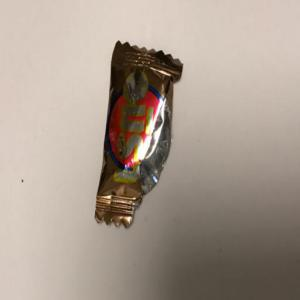Trash: (95, 40, 184, 231)
